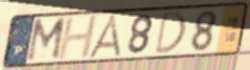8: (189, 9, 219, 53), (126, 13, 154, 56)
A: (86, 14, 125, 59)
D: (152, 10, 188, 57)
H: (55, 14, 100, 62)
M: (24, 15, 68, 64)
